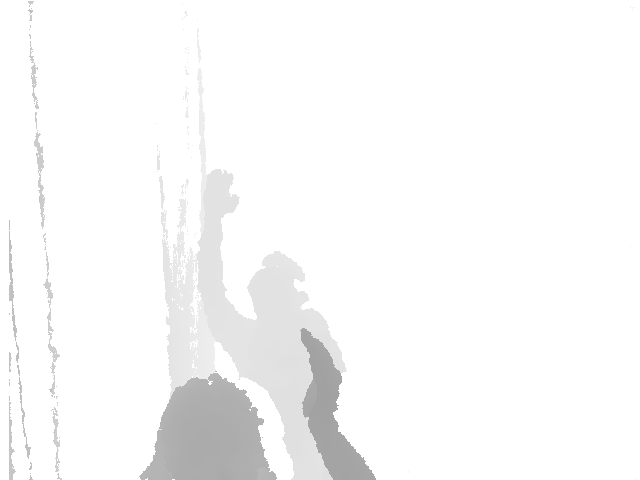hand: (296, 326, 344, 429), (200, 170, 241, 225)
head: (145, 378, 272, 480), (246, 250, 314, 321)
person: (192, 168, 349, 440), (140, 328, 374, 480)
